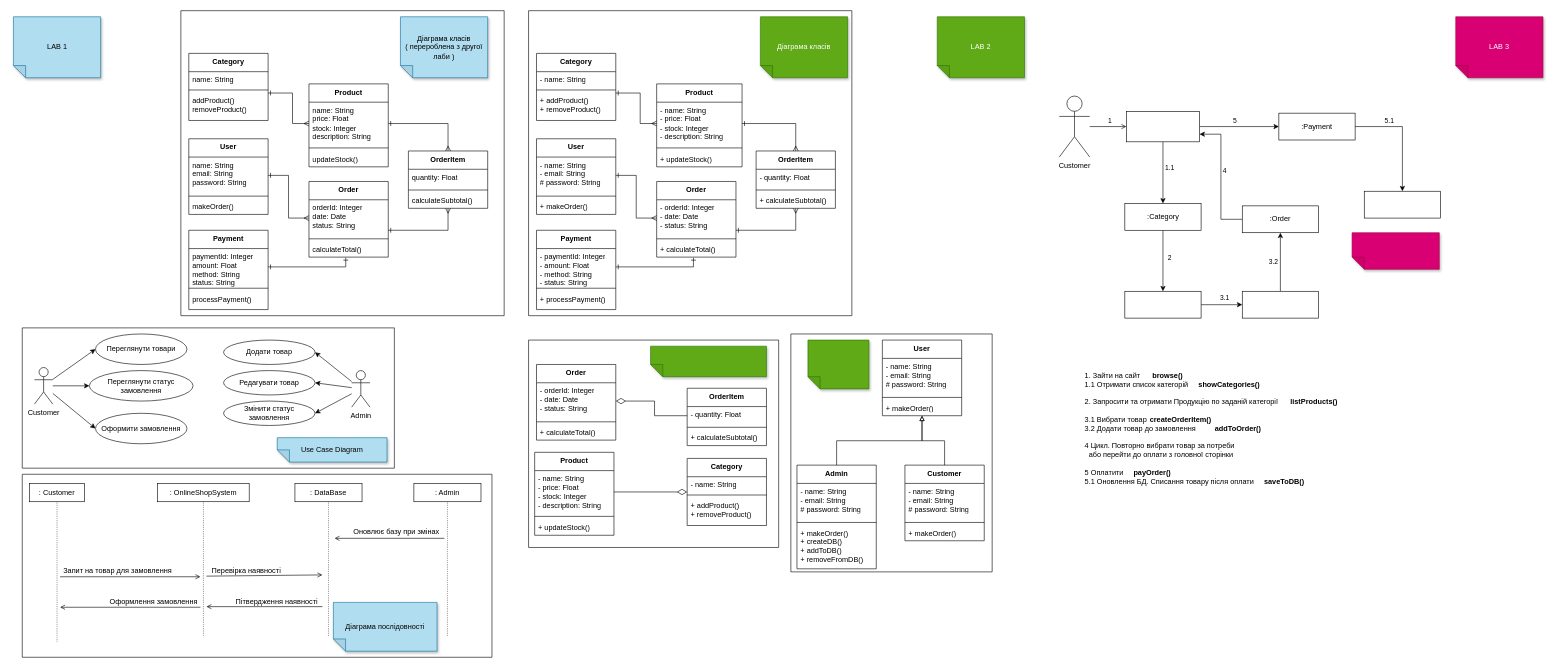
The diagram is 1557 pixels wide and 668 high, and some of its shapes have lost their labels. The shapes that lost their labels are listed below. From the top down, each one's centre as x and y in pixels, then its label:
the point at 1163,126: :OnlineShopSystem
the point at 1402,204: :DataBase
the point at 1396,252: Communication Diagram
the point at 1162,304: :Product
the point at 1280,304: :orderItem
the point at 709,362: Агрегація
the point at 839,365: Наслідування
